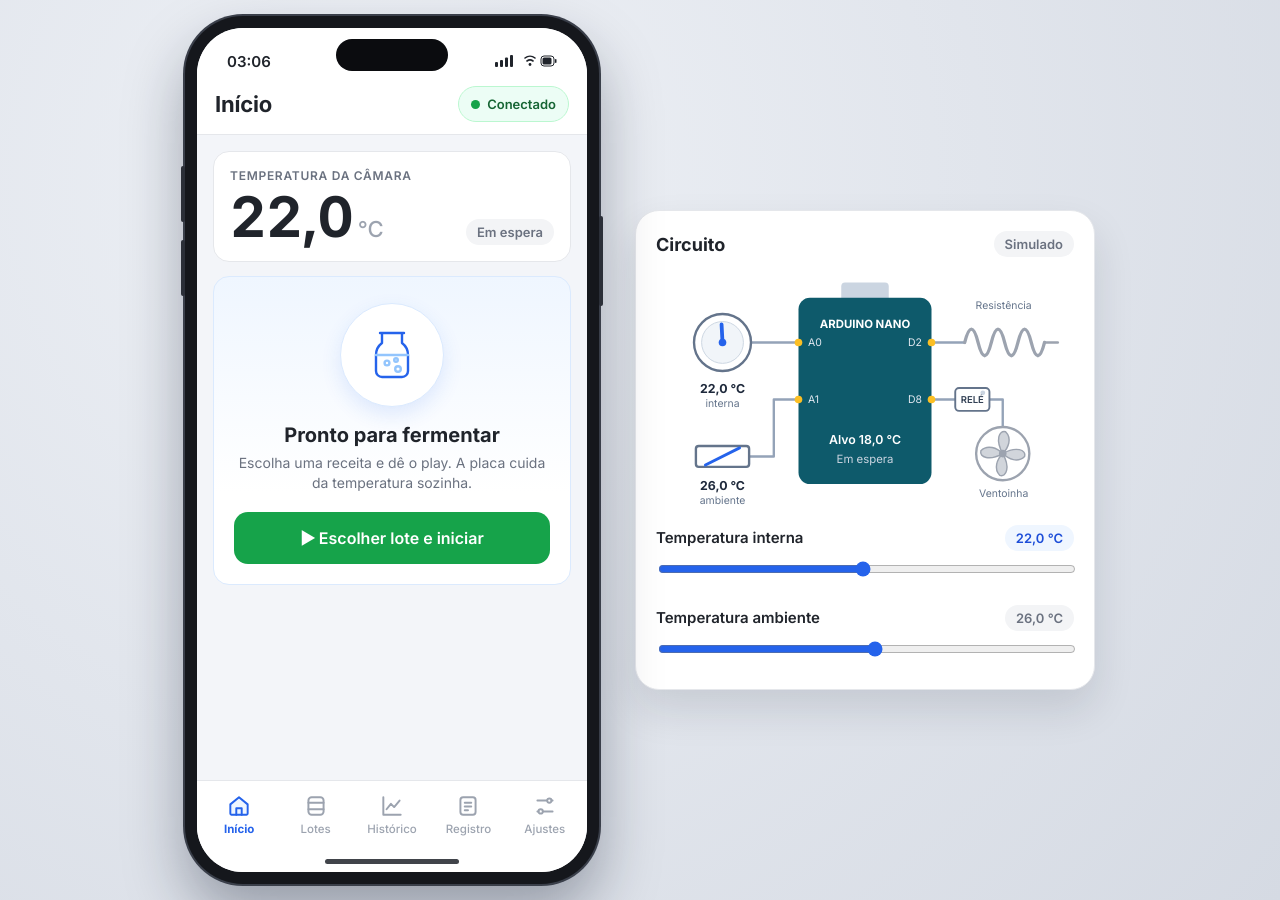
Test: App › cria um lote pelo formulário
The width and height of the screenshot is (1280, 900).
Click the button "Lotes": (316, 814) [277,787,354,842]
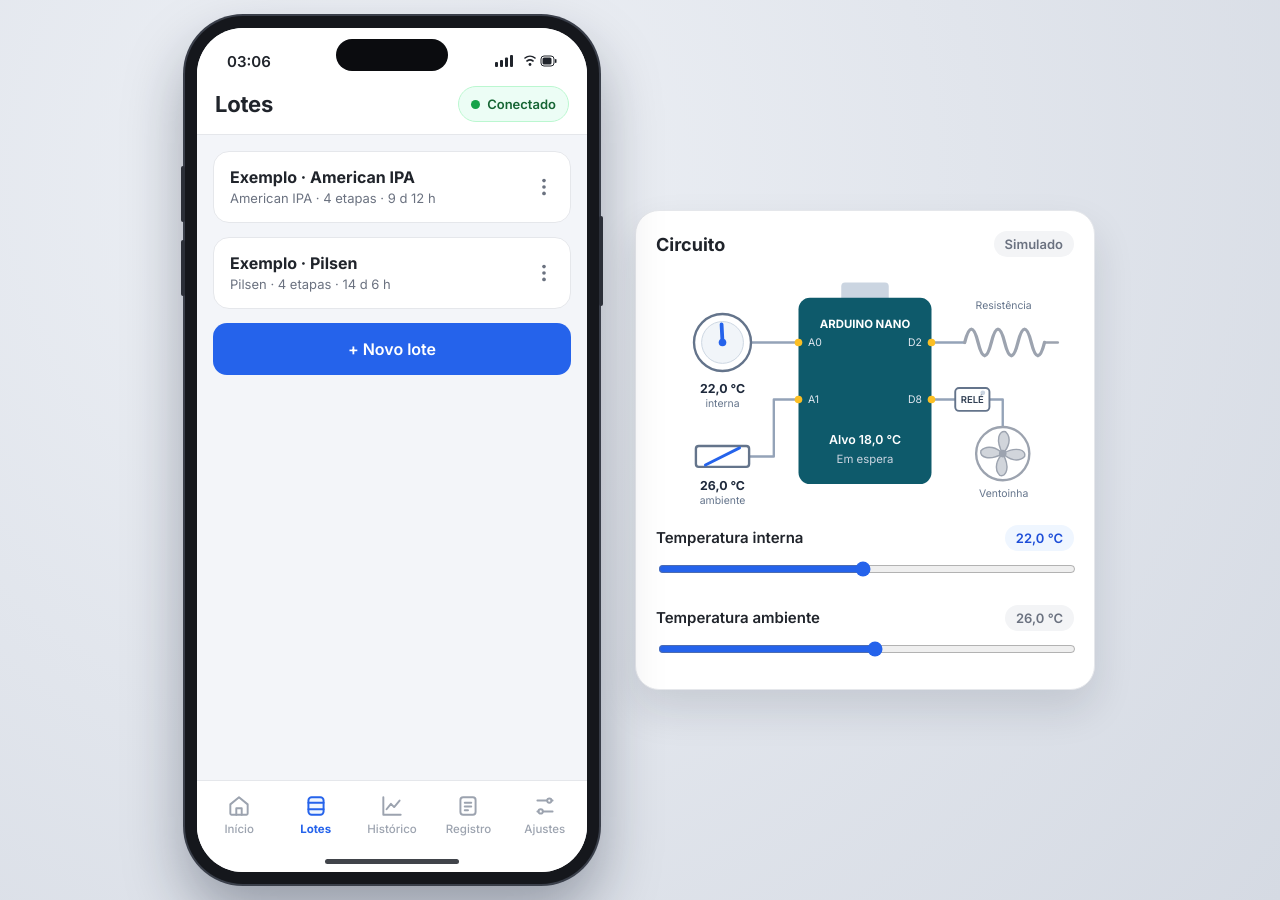
Click the button "+ Novo lote": (392, 349) [213,323,571,375]
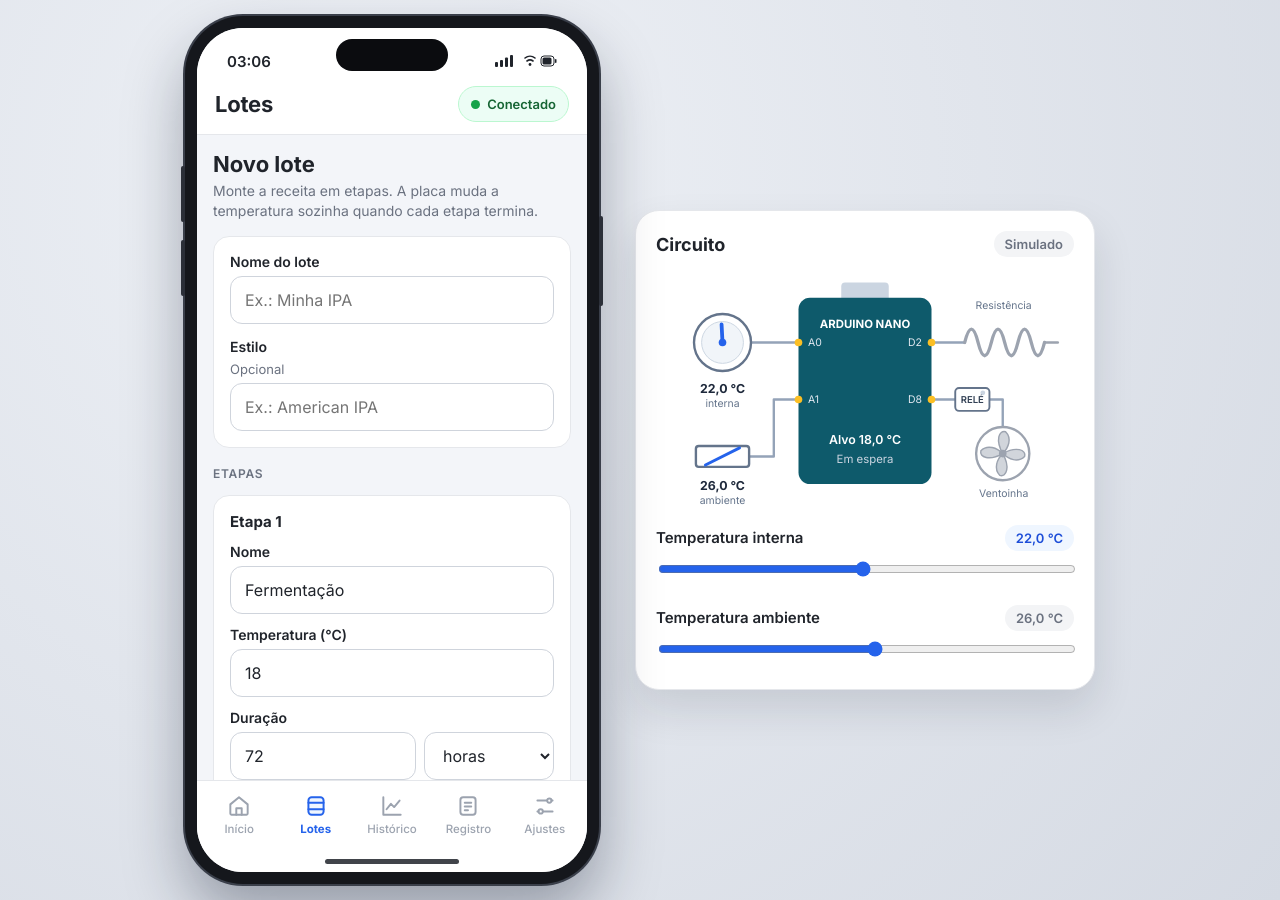
In the field with placeholder "Ex.: Minha IPA": (392, 300) [230,276,554,324], type "Teste Stout"
(page scrolled)
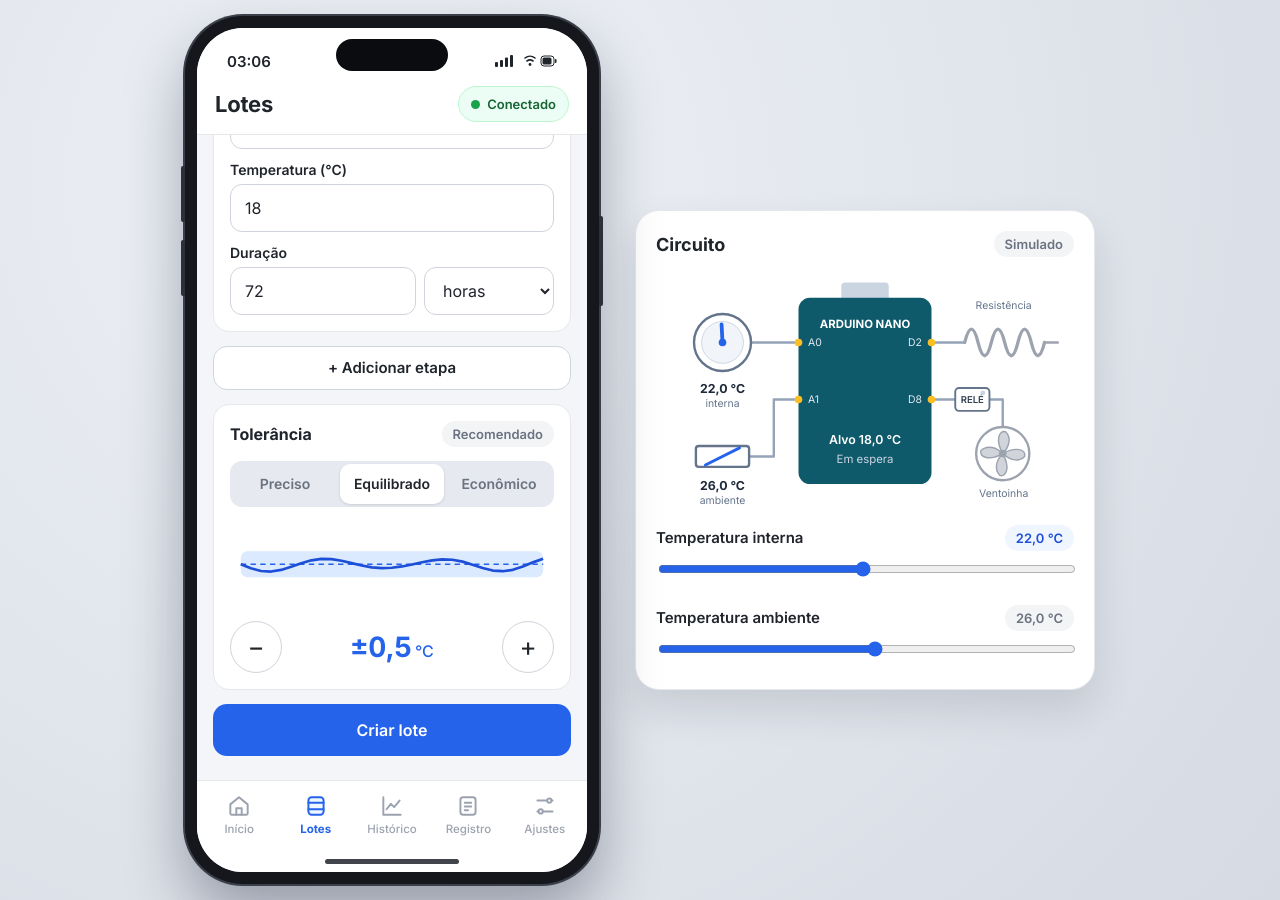
Click the button "Criar lote": (392, 730) [213,704,571,756]
Wait 100 ms
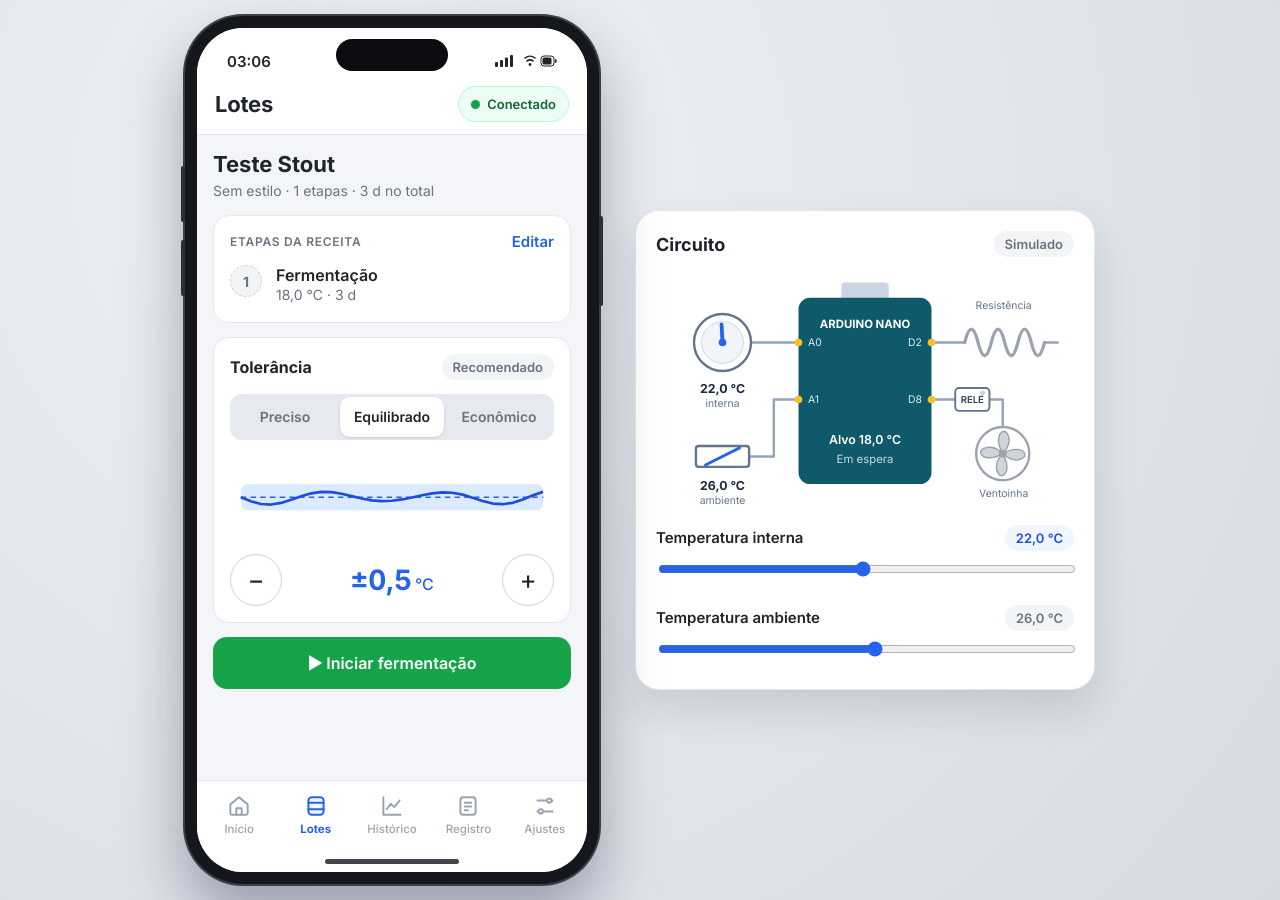
Now the text "Teste Stout" is shown, box [213,151,335,177]
Now the button "▶ Iniciar fermentação" is shown, box [213,637,571,689]
